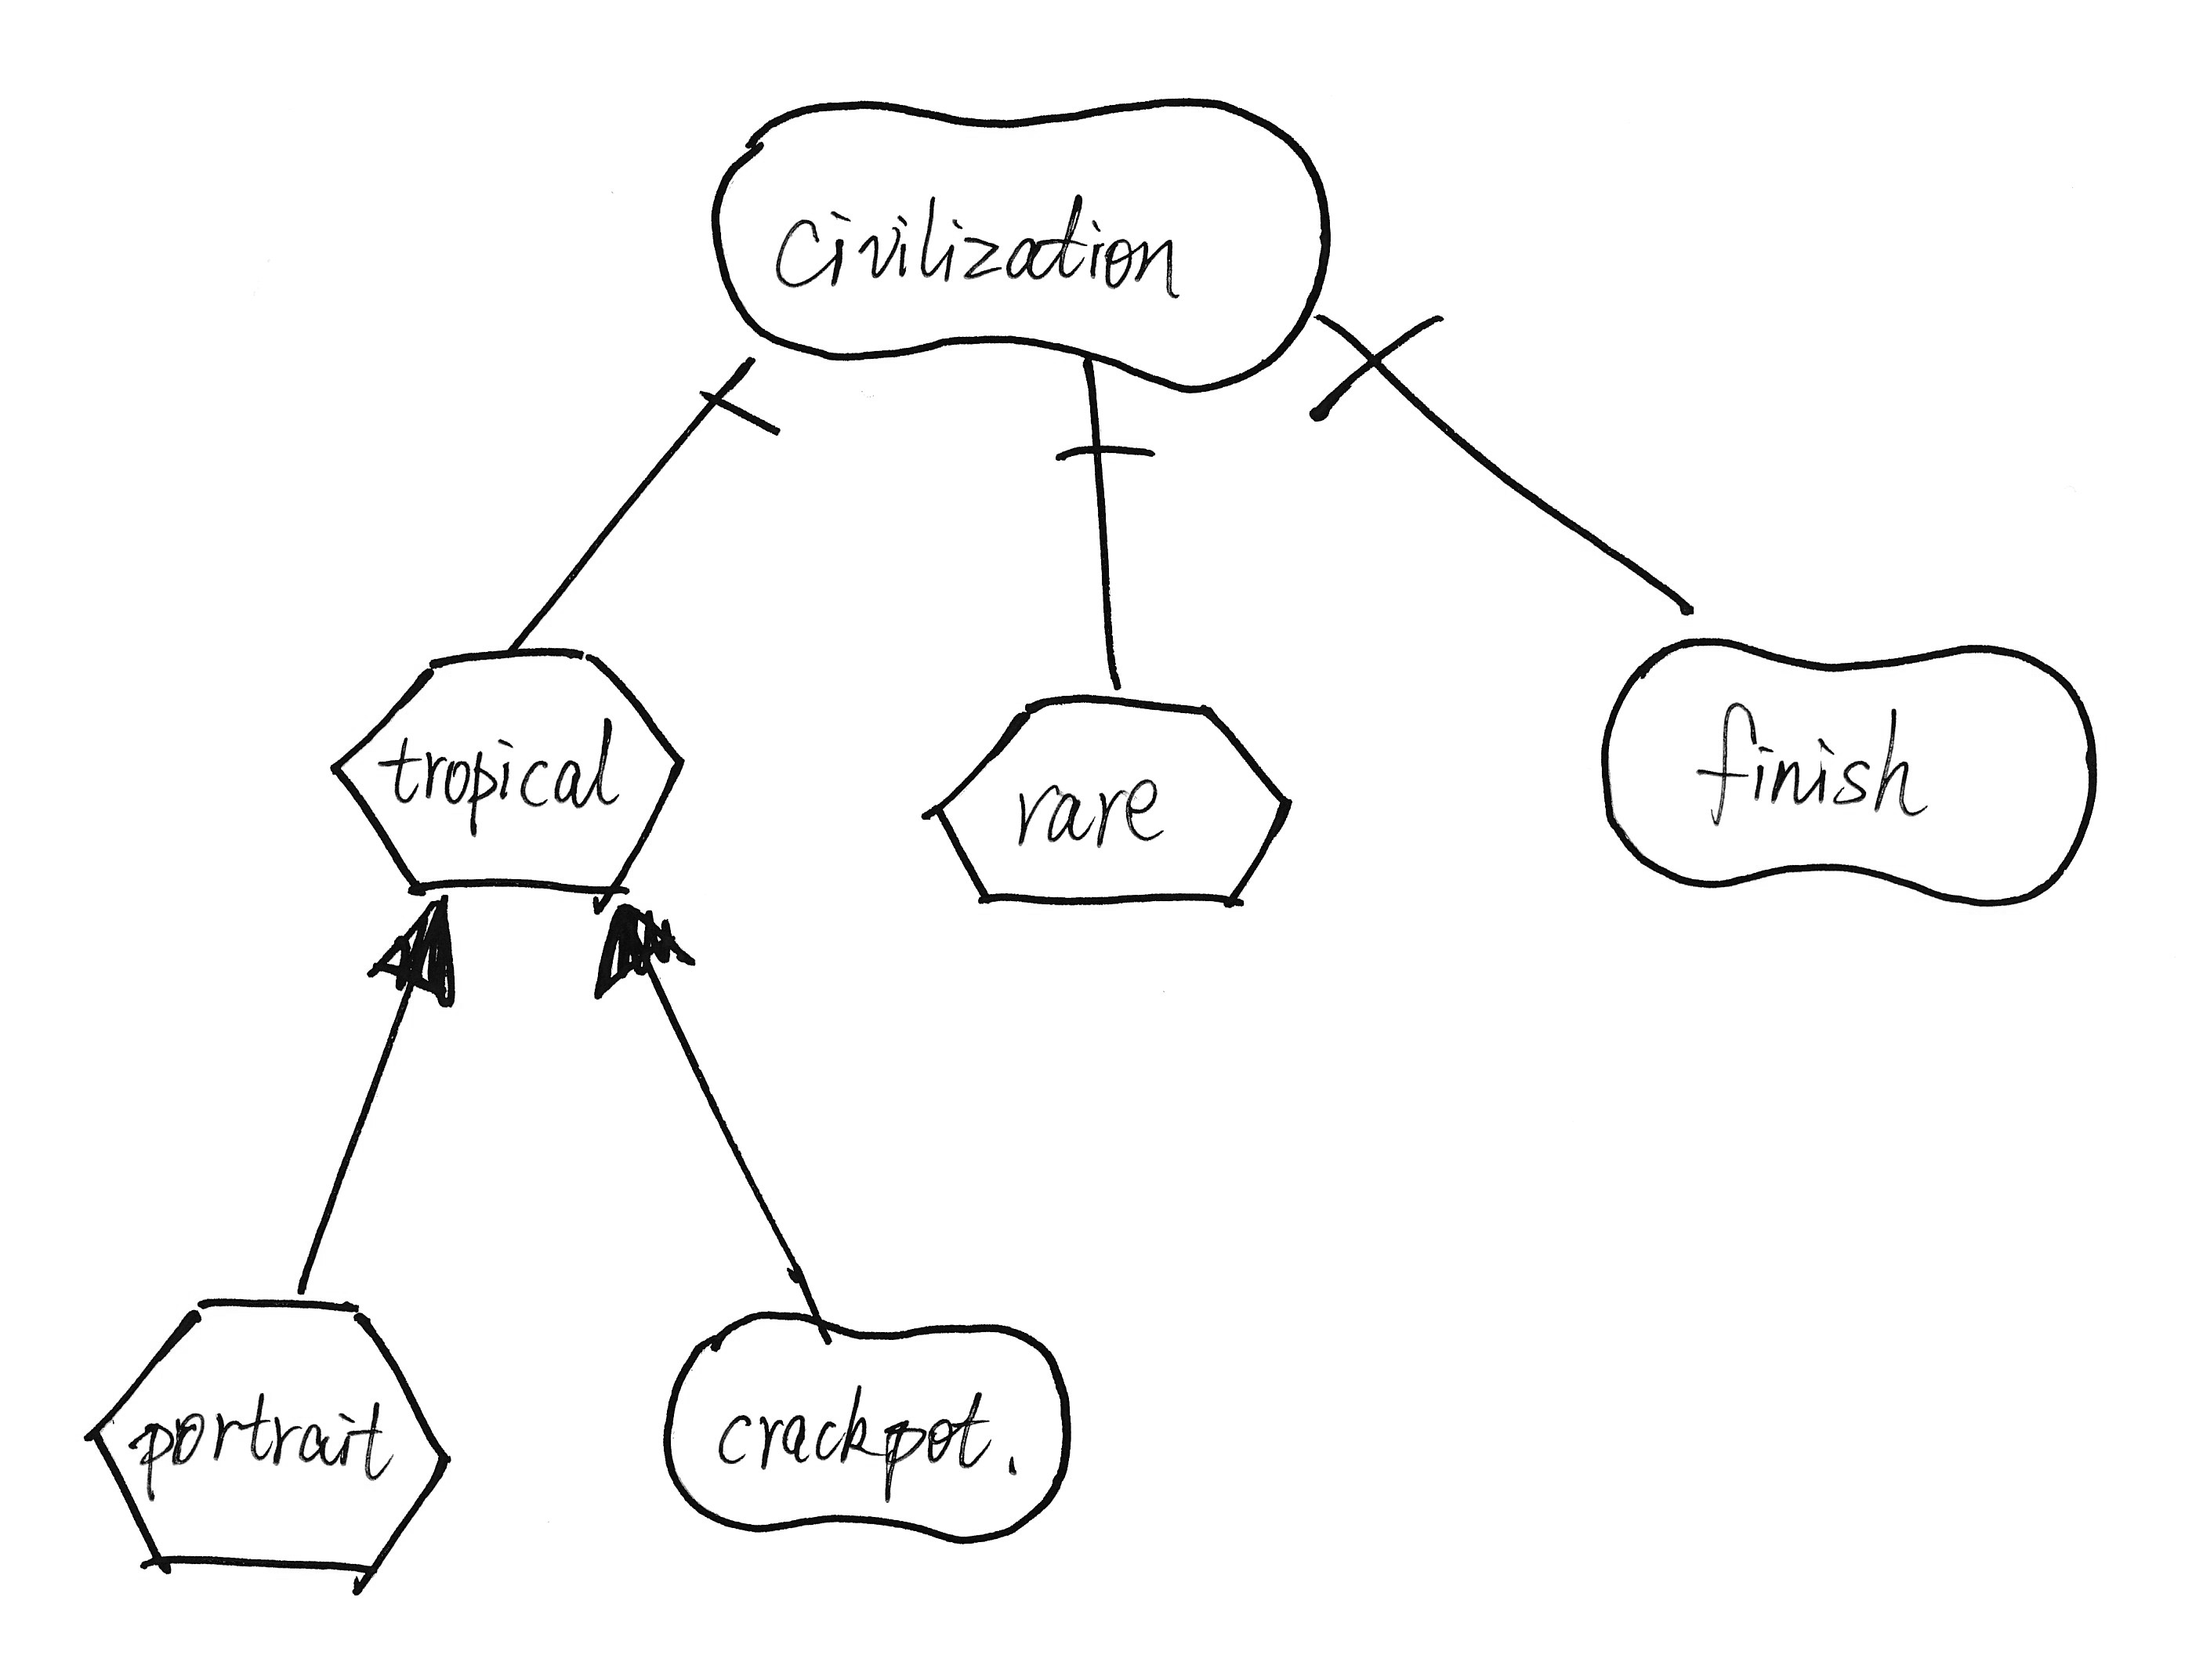and: (1292, 295, 1479, 443), (1036, 378, 1170, 510), (669, 335, 796, 461)
or: (346, 881, 491, 1024), (581, 884, 715, 1018)
quality: (688, 58, 1350, 397), (1575, 616, 2111, 918), (632, 1290, 1109, 1564)
task: (53, 1278, 480, 1609), (311, 628, 694, 925), (900, 674, 1335, 932)
